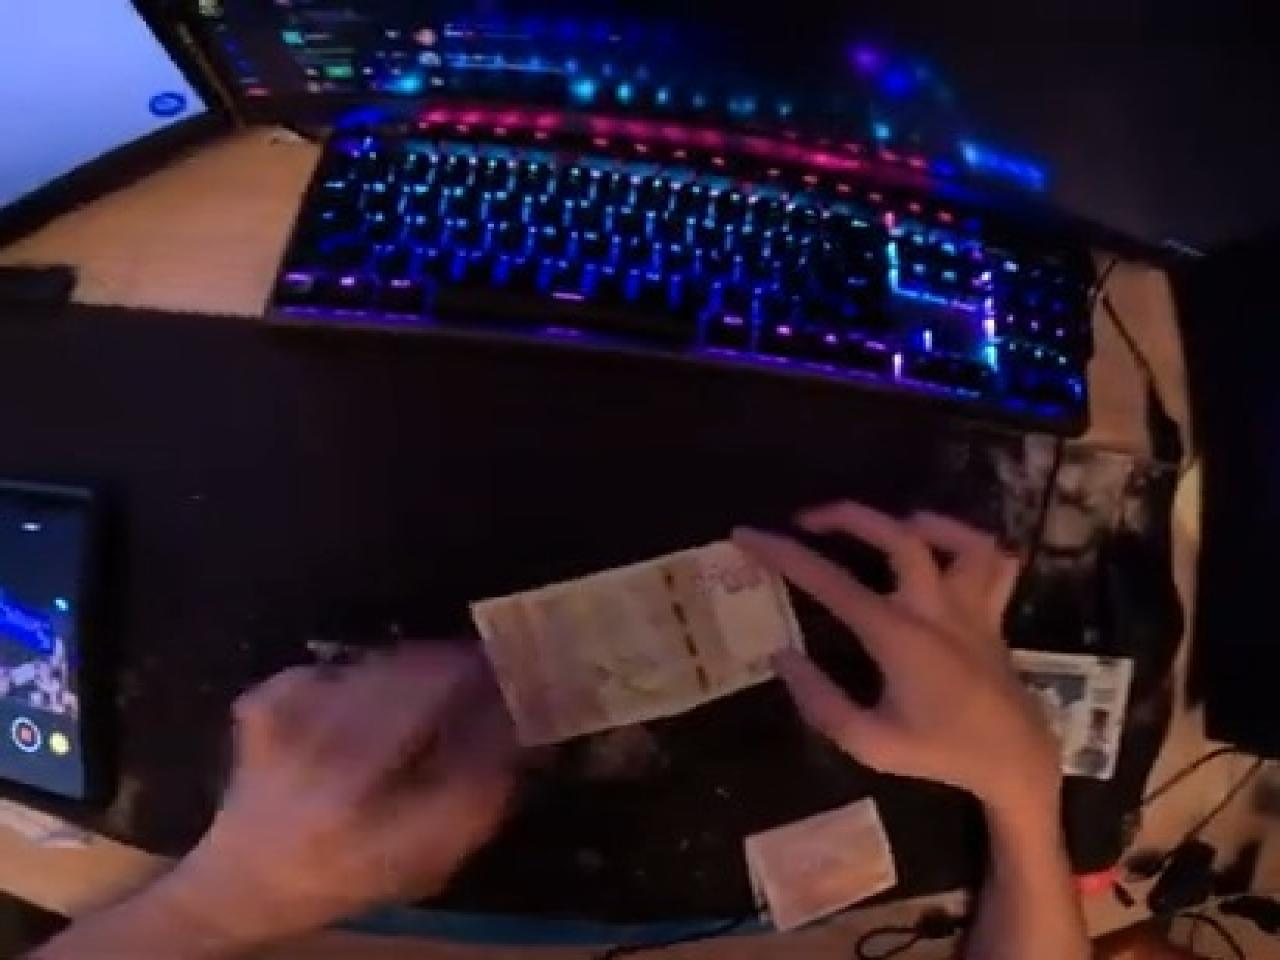50leva: (469, 538, 807, 752)
